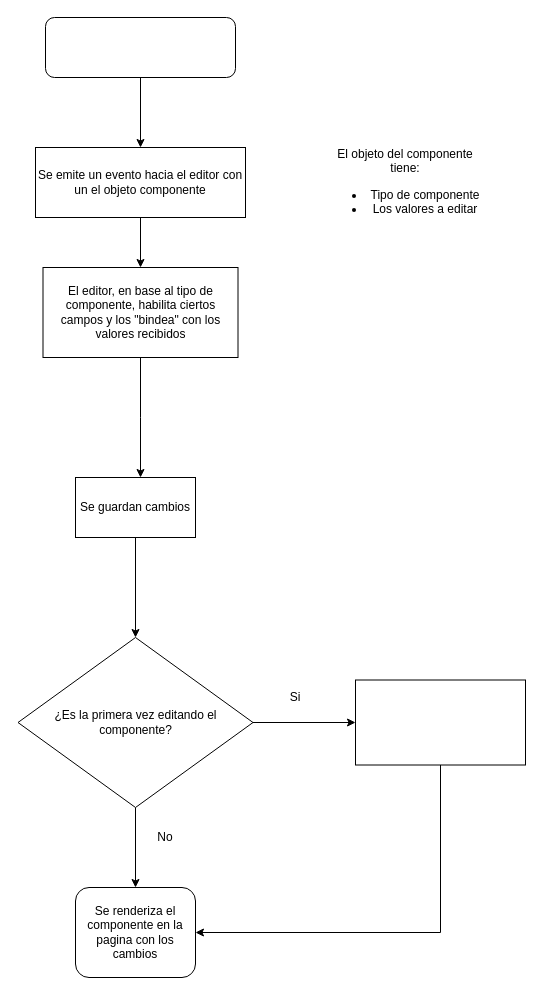
Some shapes in this 543 by 995 pixel diagram are drawn without their labels. Here are the shapes that lost their labels. From the top down, the centre of each, then its label:
At pixel 140 47: "Se selecciona un componente (testimonio, pricing, redes sociales, etc)".
At pixel 440 722: "Se agrega el componente al arreglo de componentes de la pagina en creación".
